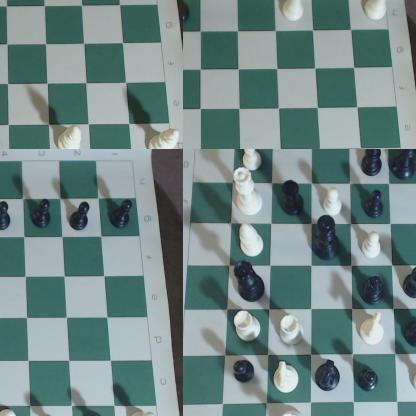black-bishop: (359, 150, 386, 182), (362, 274, 388, 305)
black-king: (316, 216, 341, 269)
black-knight: (313, 362, 343, 392), (403, 313, 416, 352)
black-pawn: (69, 198, 93, 236), (235, 357, 262, 389), (111, 198, 134, 234), (356, 367, 386, 394), (364, 191, 390, 222), (32, 197, 55, 232), (1, 201, 14, 237)
black-queen: (233, 260, 271, 304), (391, 150, 416, 183)
black-rook: (282, 180, 307, 218), (403, 267, 416, 304), (184, 1, 196, 31)
white-bishop: (236, 222, 271, 263), (149, 118, 184, 149), (55, 115, 84, 149)
white-knight: (360, 312, 389, 347), (272, 361, 300, 396)
white-pawn: (362, 228, 384, 259), (238, 150, 266, 171), (120, 404, 163, 416), (1, 396, 24, 416), (80, 406, 117, 416), (32, 407, 71, 416)
white-queen: (230, 166, 265, 219)
white-rook: (231, 310, 265, 344), (279, 315, 310, 350), (365, 1, 398, 26), (282, 1, 309, 29)
